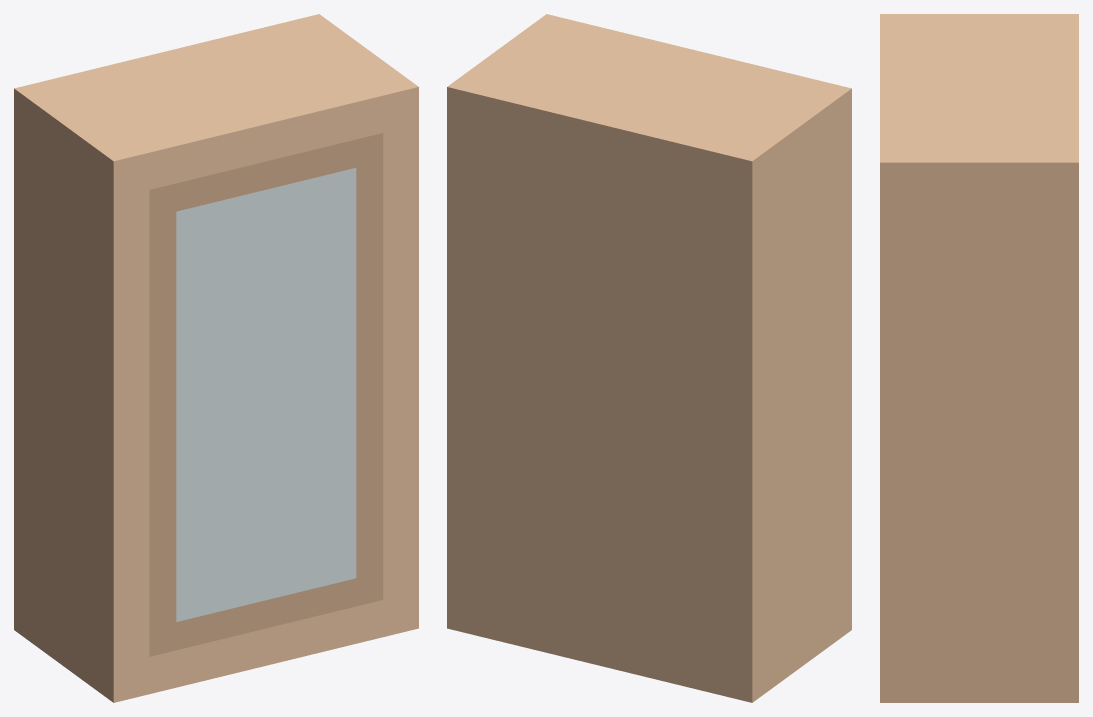
The model's file is bathroomCabinet.gltf.
3 views of the same model, side by side, from view 1: azimuth 30°, elevation 25°; view 2: azimuth 150°, elevation 25°; view 3: azimuth 270°, elevation 25° (orthographic).
Parts seen in each view (by area): view 1: bathroomCabinet(Clone), door; view 2: bathroomCabinet(Clone); view 3: bathroomCabinet(Clone).
Boxes of the visible parts, x1,y1,x2,y2 form: bathroomCabinet(Clone): (14, 14, 418, 702); door: (149, 133, 383, 656); bathroomCabinet(Clone): (447, 14, 851, 702); bathroomCabinet(Clone): (880, 14, 1078, 702).
Size of the model in its own units: 0.23 by 0.39 by 0.13.
